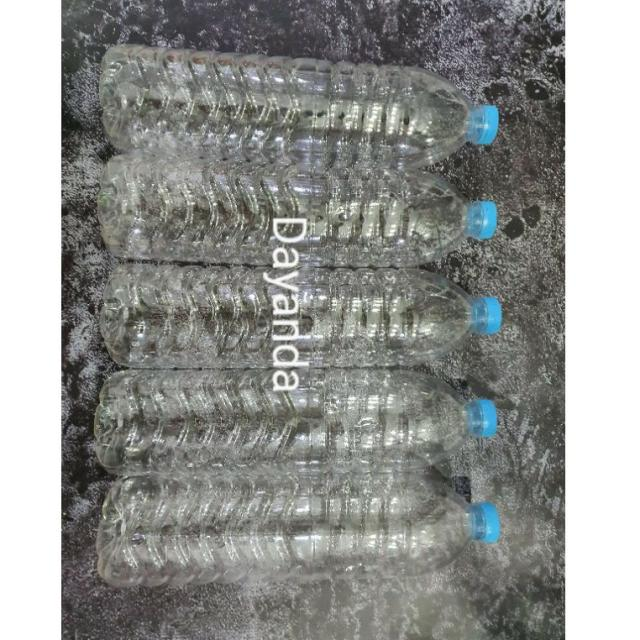plastik: (99, 45, 498, 169), (97, 470, 500, 587), (98, 155, 497, 266), (94, 368, 496, 475), (99, 263, 502, 367)
